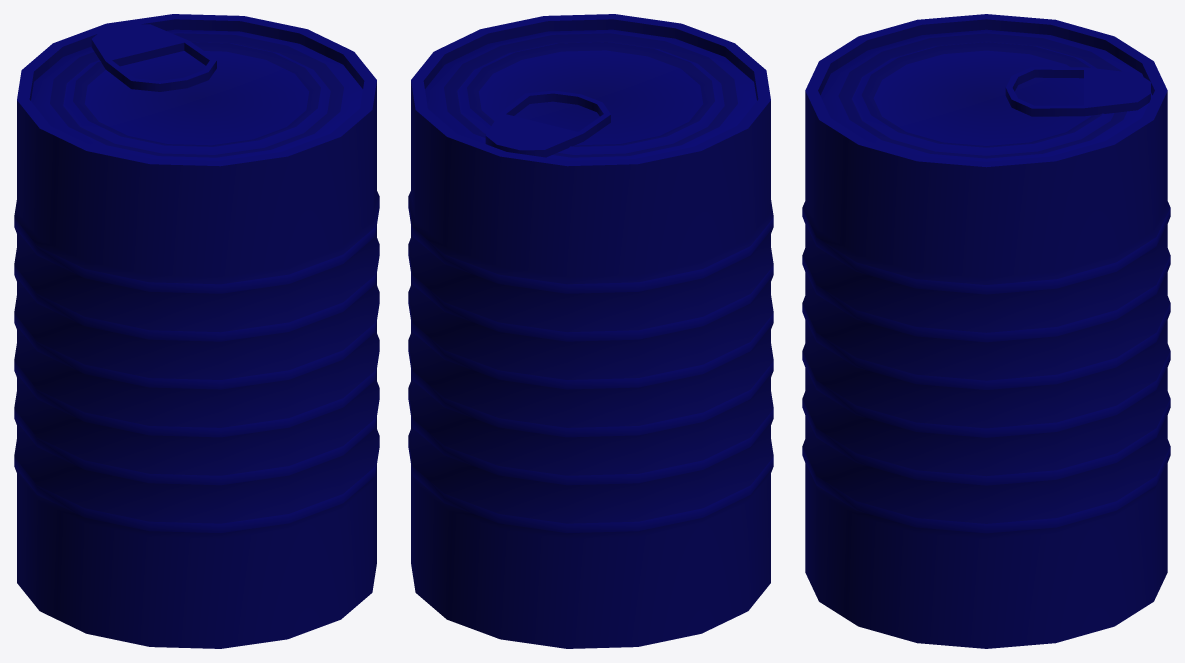
File: consumables-cannedfood-mysterycan_v1.fbx
3 renders of one model, left to right at view 1: azimuth 30°, elevation 25°; view 2: azimuth 150°, elevation 25°; view 3: azimuth 270°, elevation 25°, orthographic.
Parts seen in each view (by area): view 1: MysteryCan.001; view 2: MysteryCan.001; view 3: MysteryCan.001.
Boxes of the visible parts, x1,y1,x2,y2 form: MysteryCan.001: (14, 14, 379, 648); MysteryCan.001: (408, 14, 773, 648); MysteryCan.001: (802, 14, 1170, 648).
Bounding box in the file's own units: 0.125 × 0.1816 × 0.125.
